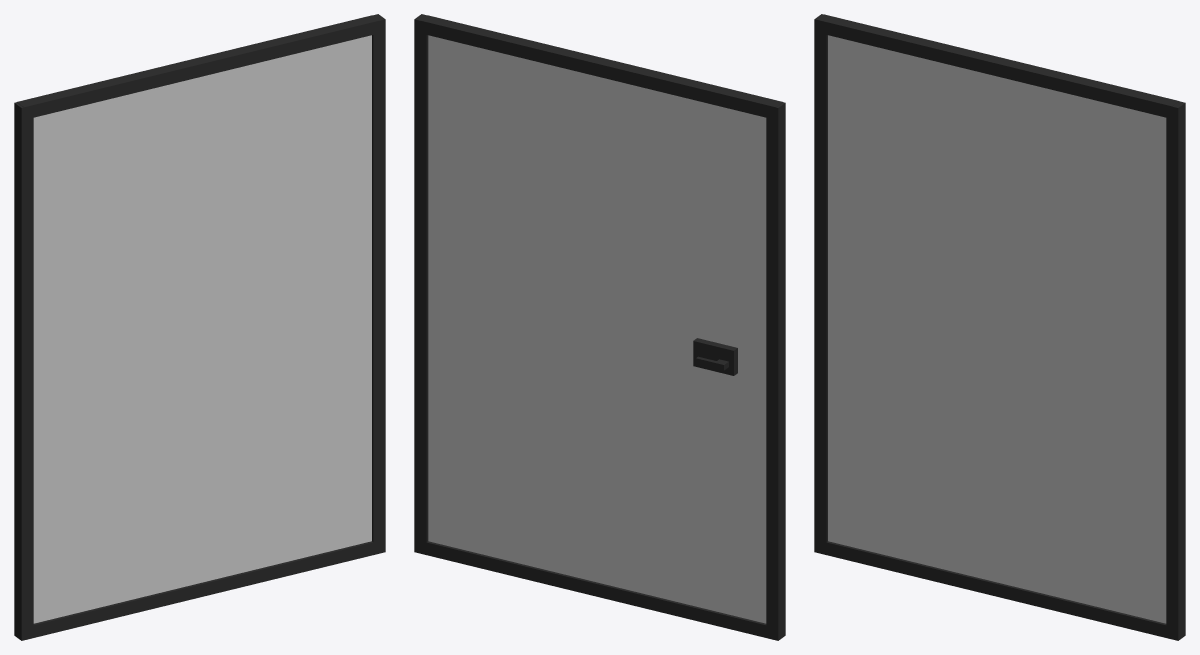
The model's file is balconyDoor01.gltf.
The picture shows the model from 3 angles, left to right: view 1: azimuth 30°, elevation 25°; view 2: azimuth 150°, elevation 25°; view 3: azimuth 330°, elevation 25°; orthographic projection.
Parts seen in each view (by area): view 1: balconyWindow2, construction11, construction5, construction6; view 2: balconyWindow2, construction11, construction5, construction6, handle; view 3: balconyWindow2, construction11, construction5, construction6.
Boxes of the visible parts, x1,y1,x2,y2 form: balconyWindow2: (33, 35, 371, 623); construction11: (14, 14, 385, 640); construction5: (17, 15, 379, 119); construction6: (24, 541, 379, 640); balconyWindow2: (428, 35, 766, 623); construction11: (414, 14, 785, 640); construction5: (420, 15, 782, 117); construction6: (426, 541, 766, 637); handle: (693, 338, 737, 375); balconyWindow2: (828, 35, 1166, 623); construction11: (814, 14, 1185, 640); construction5: (816, 14, 1178, 118); construction6: (816, 540, 1171, 639).
Bounding box in the file's own units: 0.536 × 0.7501 × 0.0367.
3 materials, 2 textured.
